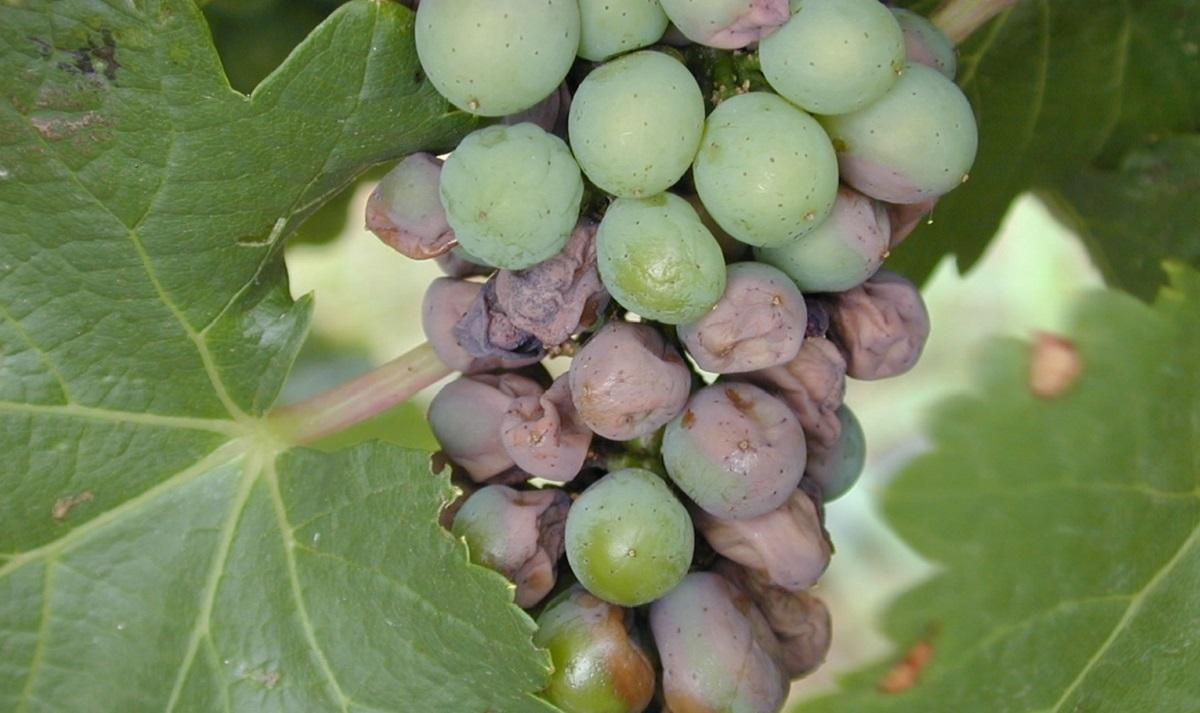Grape Rotten: (364, 1, 979, 711)
